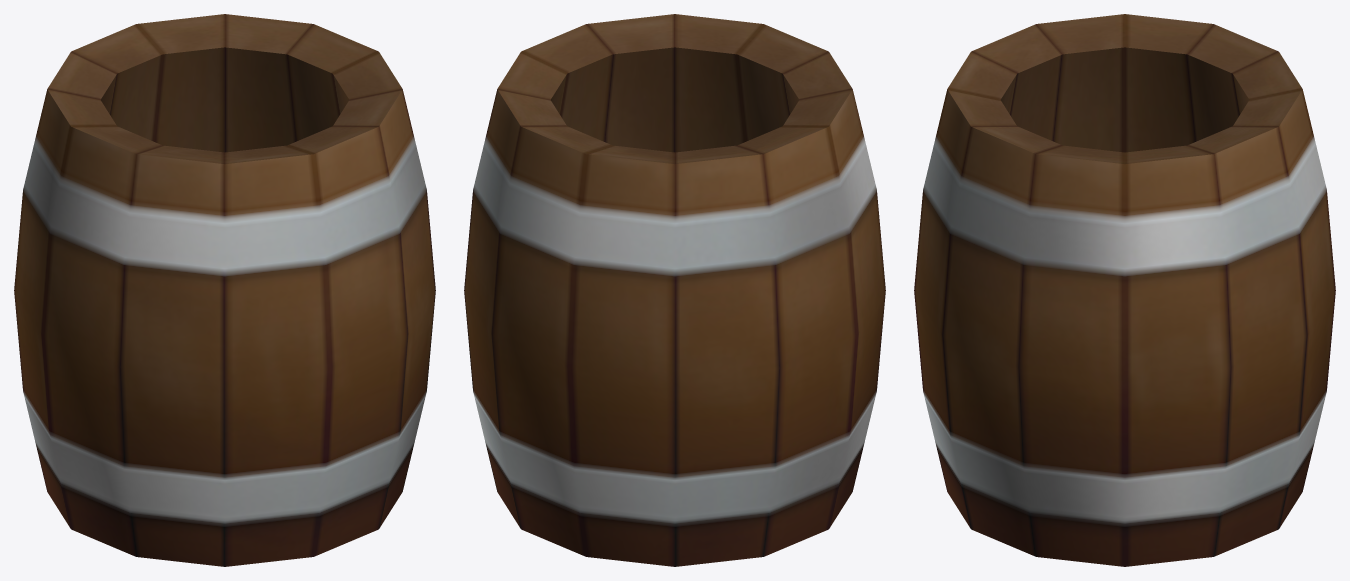
The model's file is Barrels.fbx.
The picture shows the model from 3 angles, left to right: view 1: azimuth 30°, elevation 25°; view 2: azimuth 150°, elevation 25°; view 3: azimuth 270°, elevation 25°; orthographic projection.
Visible parts, largest first — view 1: Barrel; view 2: Barrel; view 3: Barrel.
Boxes of the visible parts, x1,y1,x2,y2 form: Barrel: [14, 14, 435, 566]; Barrel: [464, 14, 885, 566]; Barrel: [914, 14, 1335, 566].
Size of the model in its own units: 5.18 by 5.46 by 5.18.
Materials: 1 (1 with a texture image).
